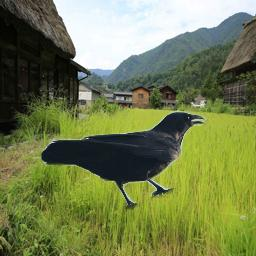Crow: (40, 111, 207, 210)
